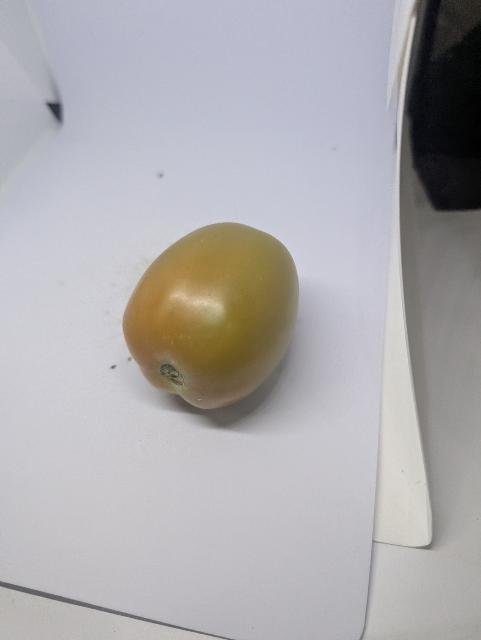breaker: (123, 223, 299, 408)
